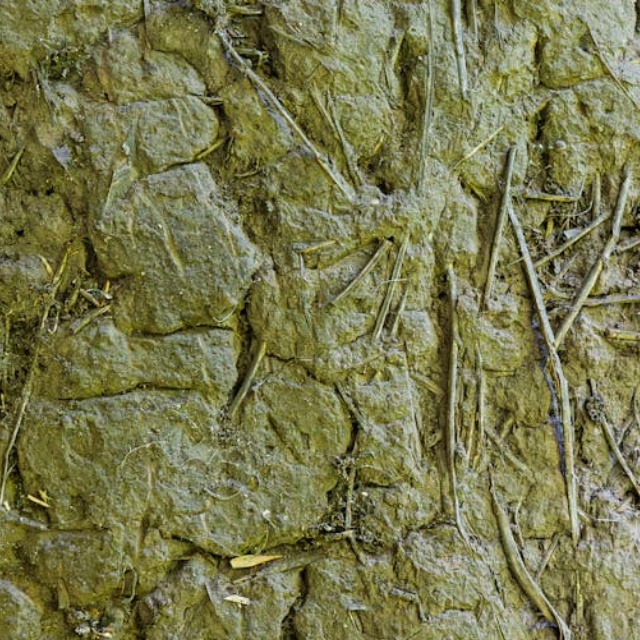细微裂纹: (222, 276, 400, 640)
